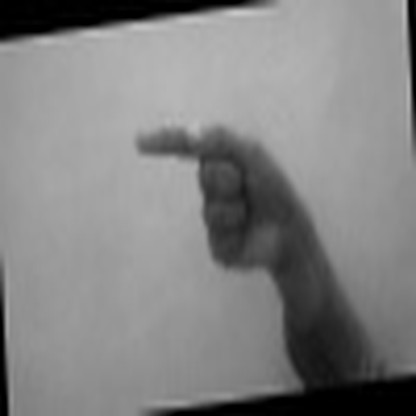g: (126, 106, 311, 281)
